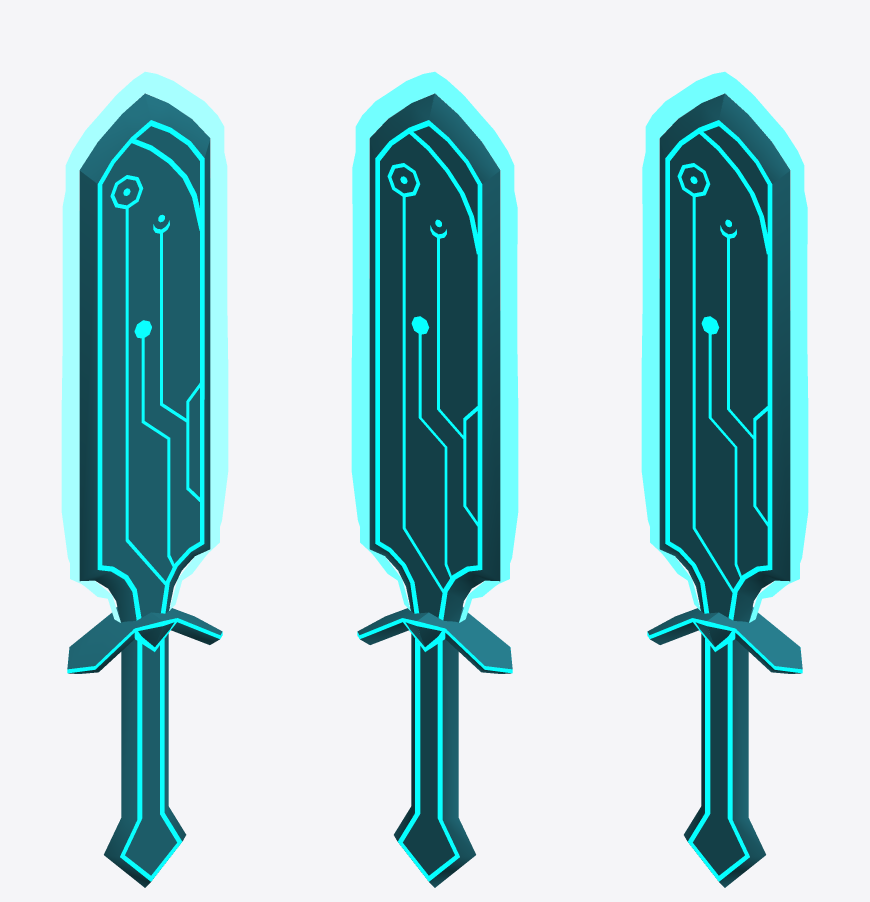
The model's file is 11-Neon.fbx.
3 views of the same model, side by side, from view 1: azimuth 30°, elevation 25°; view 2: azimuth 150°, elevation 25°; view 3: azimuth 330°, elevation 25° (orthographic).
Parts seen in each view (by area): view 1: a, b; view 2: b, a; view 3: a, b.
Boxes of the visible parts, bbox=[...] form: a: bbox=[61, 72, 210, 887]; b: bbox=[105, 71, 228, 851]; b: bbox=[351, 71, 500, 887]; a: bbox=[417, 72, 518, 854]; a: bbox=[641, 71, 790, 887]; b: bbox=[707, 72, 808, 854].
Bounding box in the file's own units: 47.48 × 151 × 11.31.
